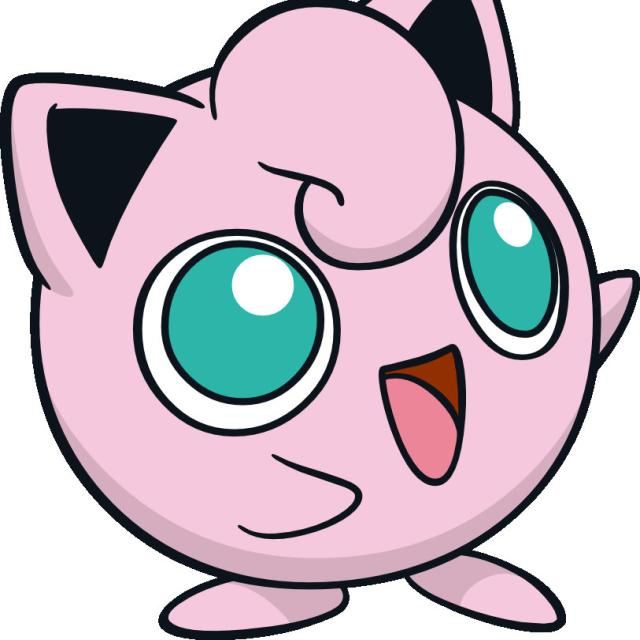Jigglypuff: (7, 22, 640, 628)
